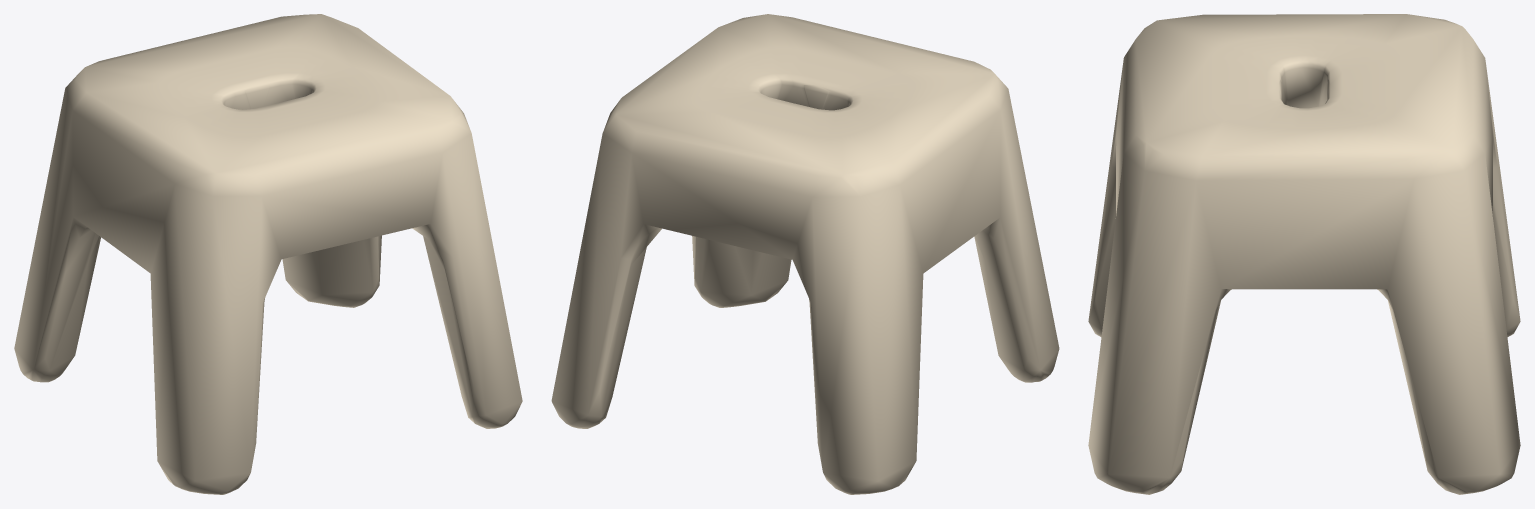
Rendered from bath_stool_lod_far.glb.
The picture shows the model from 3 angles, left to right: view 1: azimuth 30°, elevation 25°; view 2: azimuth 150°, elevation 25°; view 3: azimuth 270°, elevation 25°; orthographic projection. The views are drawn at different scales.
Parts seen in each view (by area): view 1: bath_stool_lod_far; view 2: bath_stool_lod_far; view 3: bath_stool_lod_far.
Part boxes in pixels (x1,y1,x2,y2): bath_stool_lod_far: (14, 14, 522, 494); bath_stool_lod_far: (551, 14, 1059, 494); bath_stool_lod_far: (1088, 14, 1520, 494).
Bounding box in the file's own units: 0.36 × 0.3 × 0.36.
